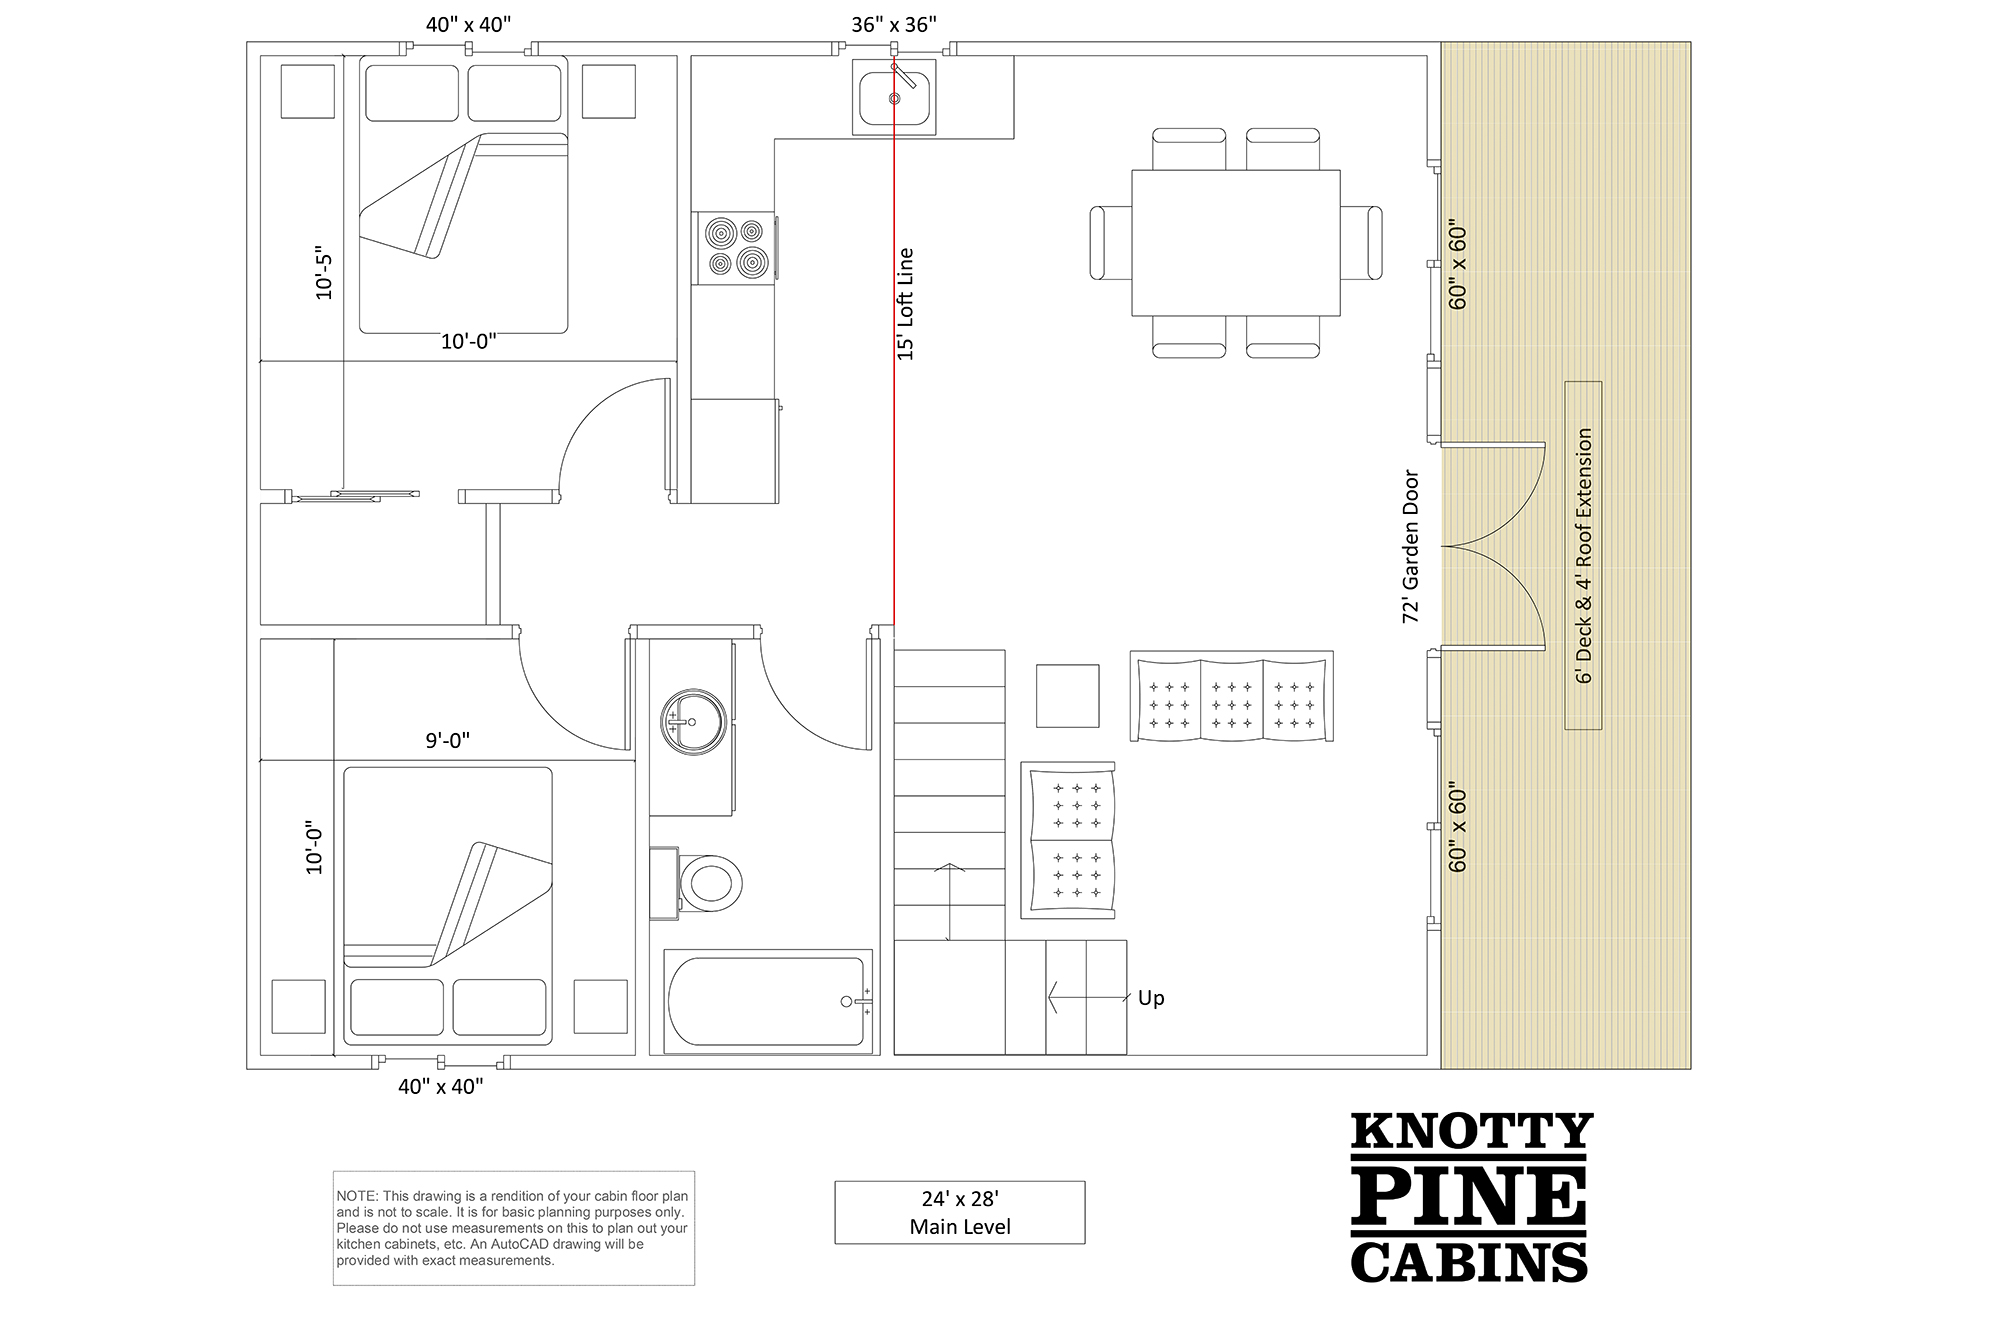wall: (248, 43, 265, 1068), (507, 1055, 1436, 1068), (630, 631, 651, 1070), (956, 42, 1448, 60), (677, 42, 690, 507), (537, 42, 836, 60), (877, 623, 888, 1056), (260, 623, 525, 637), (483, 501, 506, 626), (245, 1055, 381, 1073), (633, 623, 755, 640), (1425, 43, 1441, 164), (1428, 931, 1441, 1067), (462, 489, 556, 504), (1430, 827, 1441, 934)
